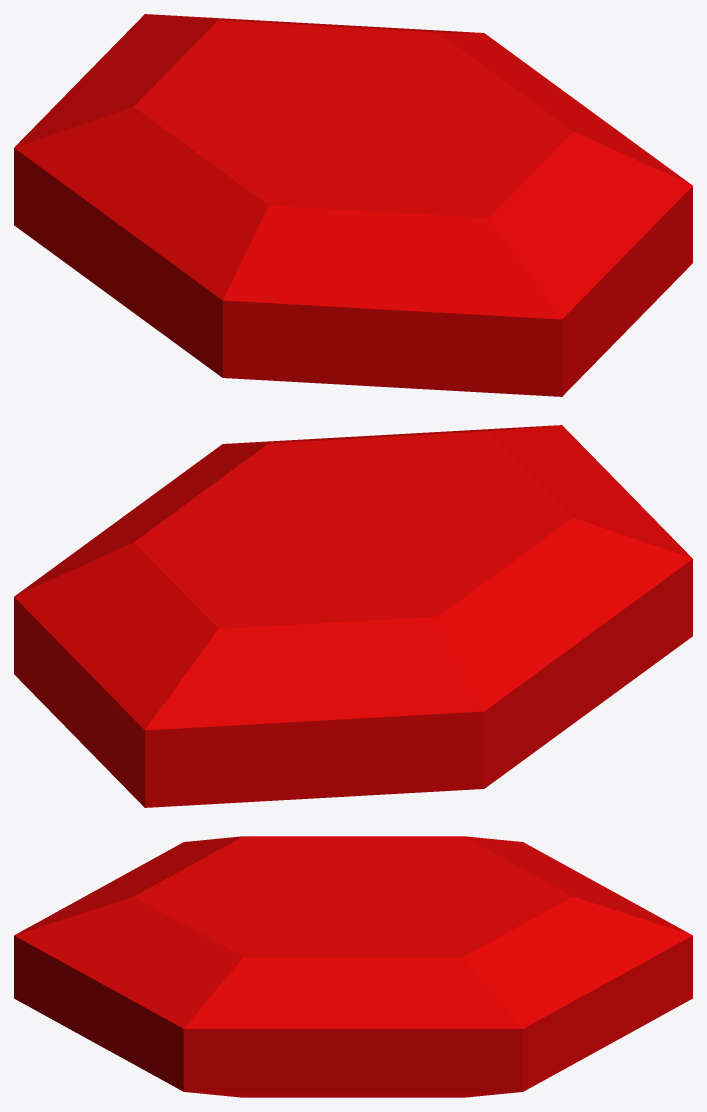
File: KRISTAL NAGA.fbx
3 views of the same model, one above another, from view 1: azimuth 30°, elevation 25°; view 2: azimuth 150°, elevation 25°; view 3: azimuth 270°, elevation 25° (orthographic). The views are drawn at different scales.
Parts seen in each view (by area): view 1: Ruby; view 2: Ruby; view 3: Ruby.
Part boxes in pixels (x1,y1,x2,y2): Ruby: (14,14,692,396); Ruby: (14,425,692,807); Ruby: (14,836,692,1097).
Bounding box in the file's own units: 48.05 × 16.88 × 73.82.
